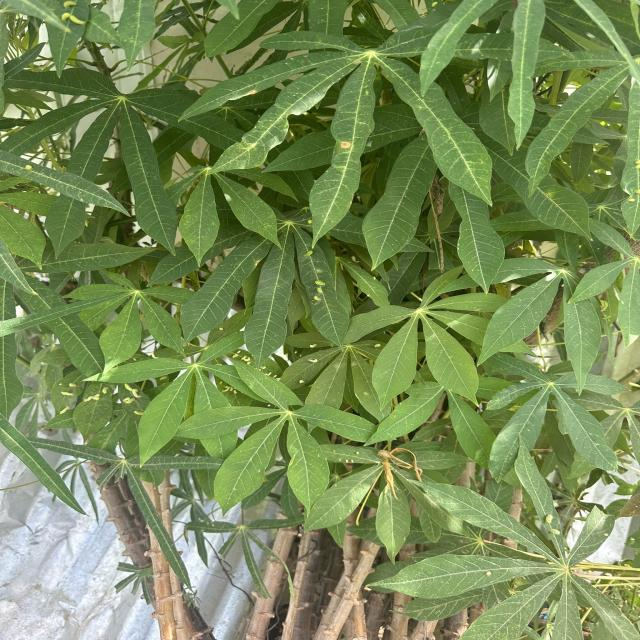Mosca: (55, 0, 88, 24), (76, 385, 111, 405), (544, 509, 564, 538), (231, 347, 253, 372), (310, 277, 328, 307), (53, 378, 77, 400), (124, 379, 143, 406), (255, 363, 281, 381), (220, 377, 243, 396), (125, 403, 148, 421), (297, 243, 316, 259), (303, 355, 325, 368), (332, 455, 361, 464), (479, 568, 495, 581), (302, 215, 318, 227), (59, 405, 71, 421), (24, 156, 34, 173), (306, 339, 321, 348), (294, 379, 306, 389), (373, 340, 383, 350), (36, 358, 46, 368), (602, 529, 611, 539), (355, 449, 361, 455)
